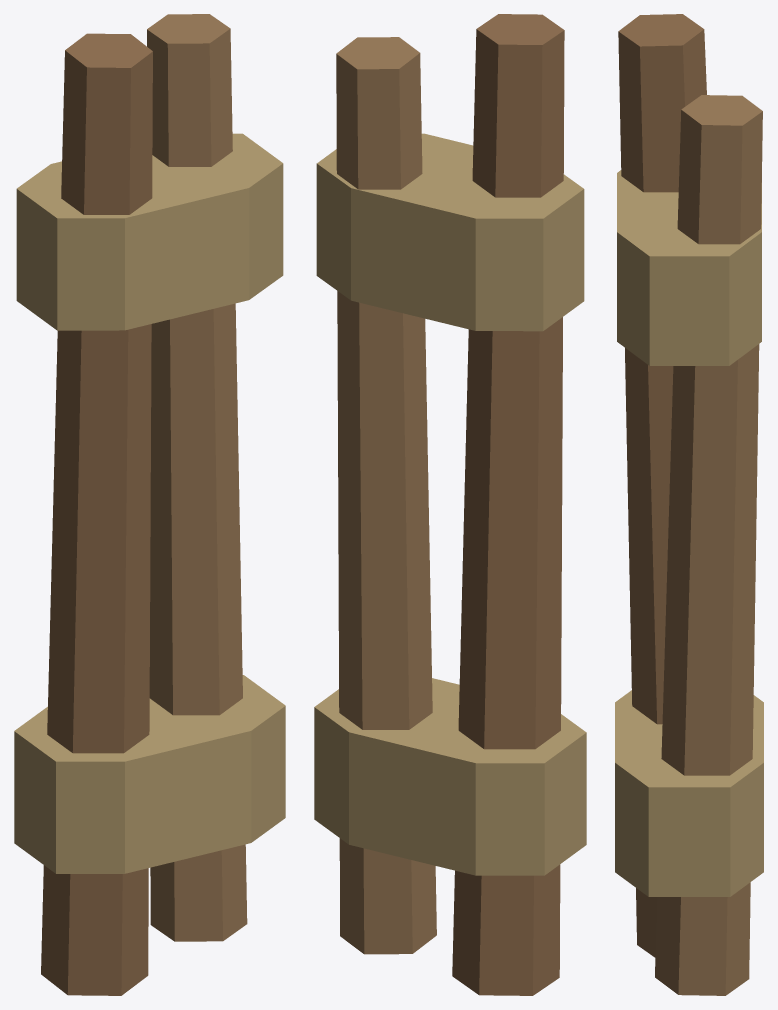
The model's file is med.splint.fbx.
The picture shows the model from 3 angles, left to right: view 1: azimuth 30°, elevation 25°; view 2: azimuth 150°, elevation 25°; view 3: azimuth 270°, elevation 25°; orthographic projection. The views are drawn at different scales.
Parts seen in each view (by area): view 1: splint; view 2: splint; view 3: splint.
Boxes of the visible parts, box(x1,y1,x2,y2) form: splint: box(14, 14, 285, 995); splint: box(314, 14, 586, 995); splint: box(615, 14, 763, 995).
Size of the model in its own units: 0.2571 by 1 by 0.1477.
